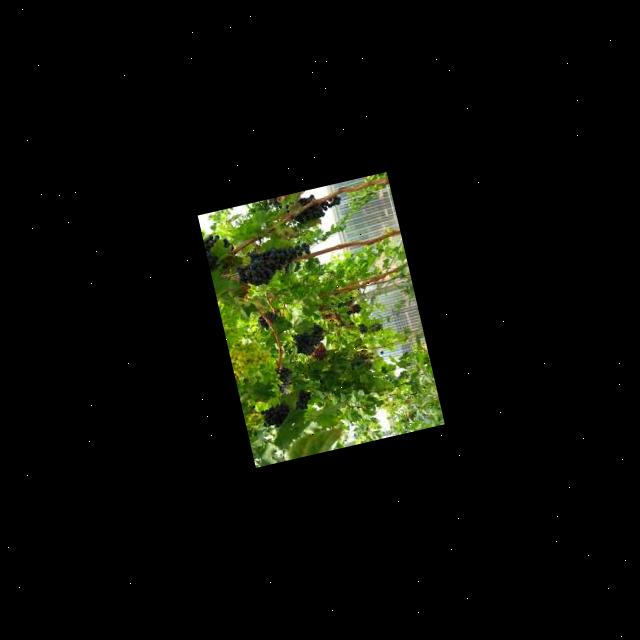grape: (230, 238, 313, 290), (200, 229, 236, 271), (288, 322, 326, 358), (258, 401, 292, 430), (254, 309, 279, 332)
